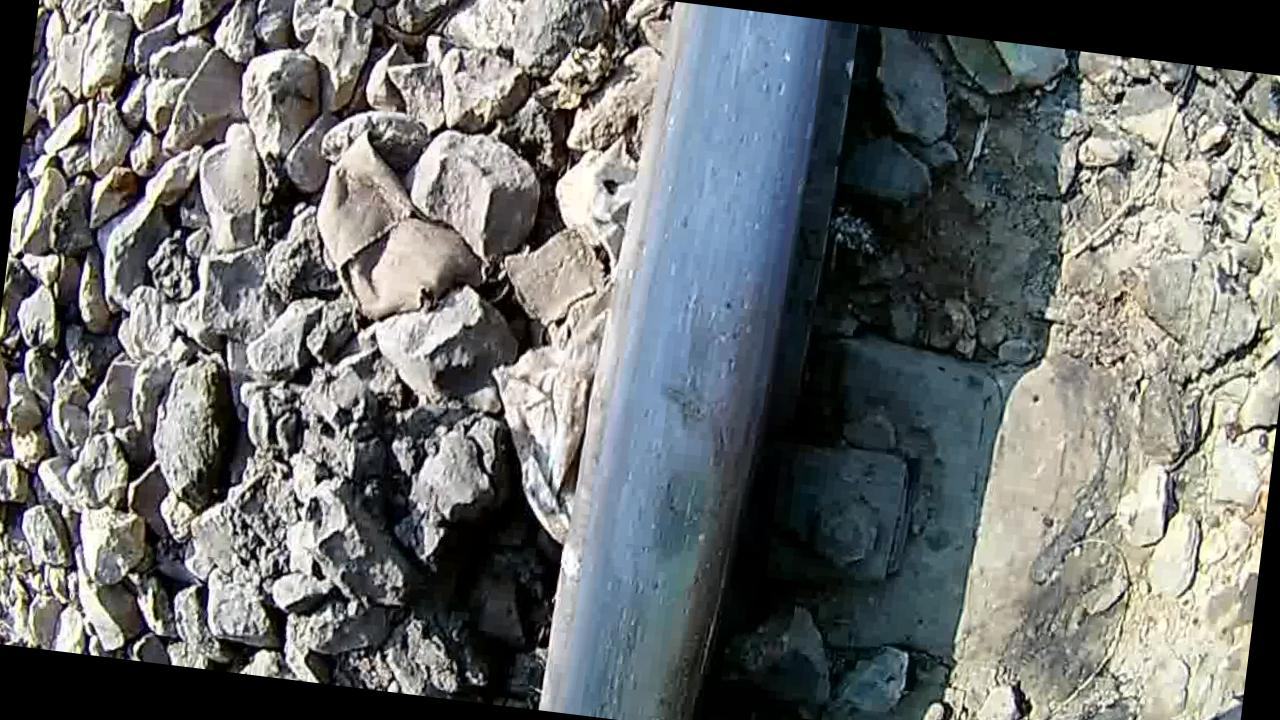bolt_missing: (596, 252, 800, 636)
